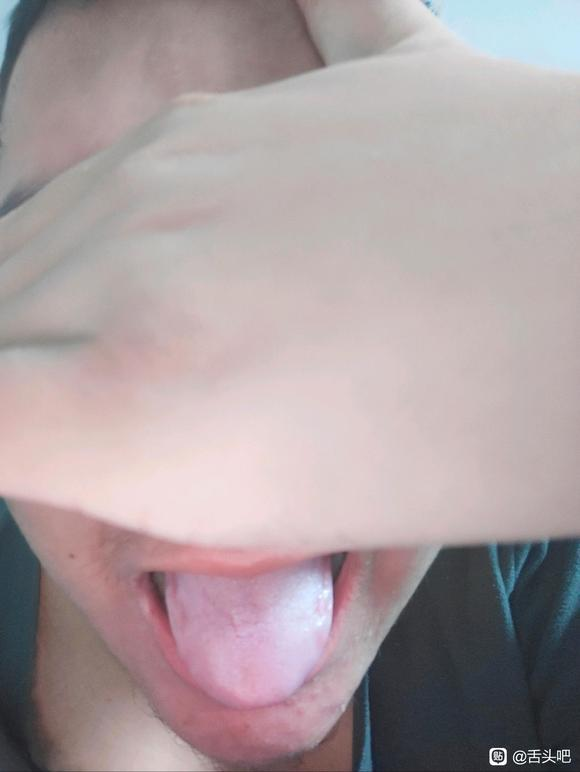baitaishe: (164, 555, 333, 707)
